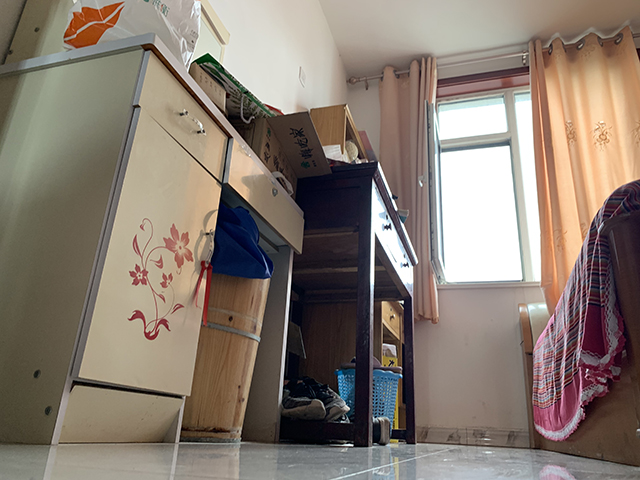bed: (516, 177, 640, 469)
curtain: (526, 28, 609, 273), (390, 56, 440, 326)
table: (5, 52, 305, 446), (293, 158, 418, 447)
trashcan: (333, 365, 403, 436)
